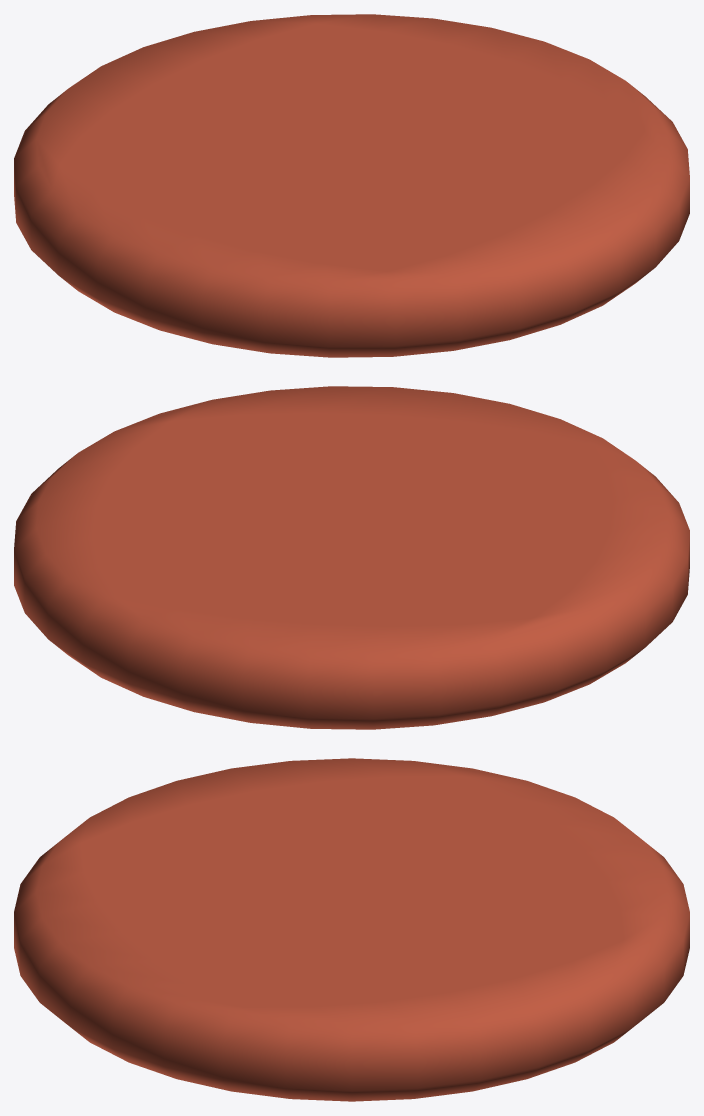
Rendered from Burger_flip.fbx.
The picture shows the model from 3 angles, top to bottom: view 1: azimuth 30°, elevation 25°; view 2: azimuth 150°, elevation 25°; view 3: azimuth 270°, elevation 25°; orthographic projection.
Parts seen in each view (by area): view 1: Cylinder.003; view 2: Cylinder.003; view 3: Cylinder.003.
Boxes of the visible parts, <box> form: Cylinder.003: <box>14,14,689,357</box>; Cylinder.003: <box>14,386,689,729</box>; Cylinder.003: <box>14,758,689,1101</box>.
Size of the model in its own units: 200 by 25 by 200.
